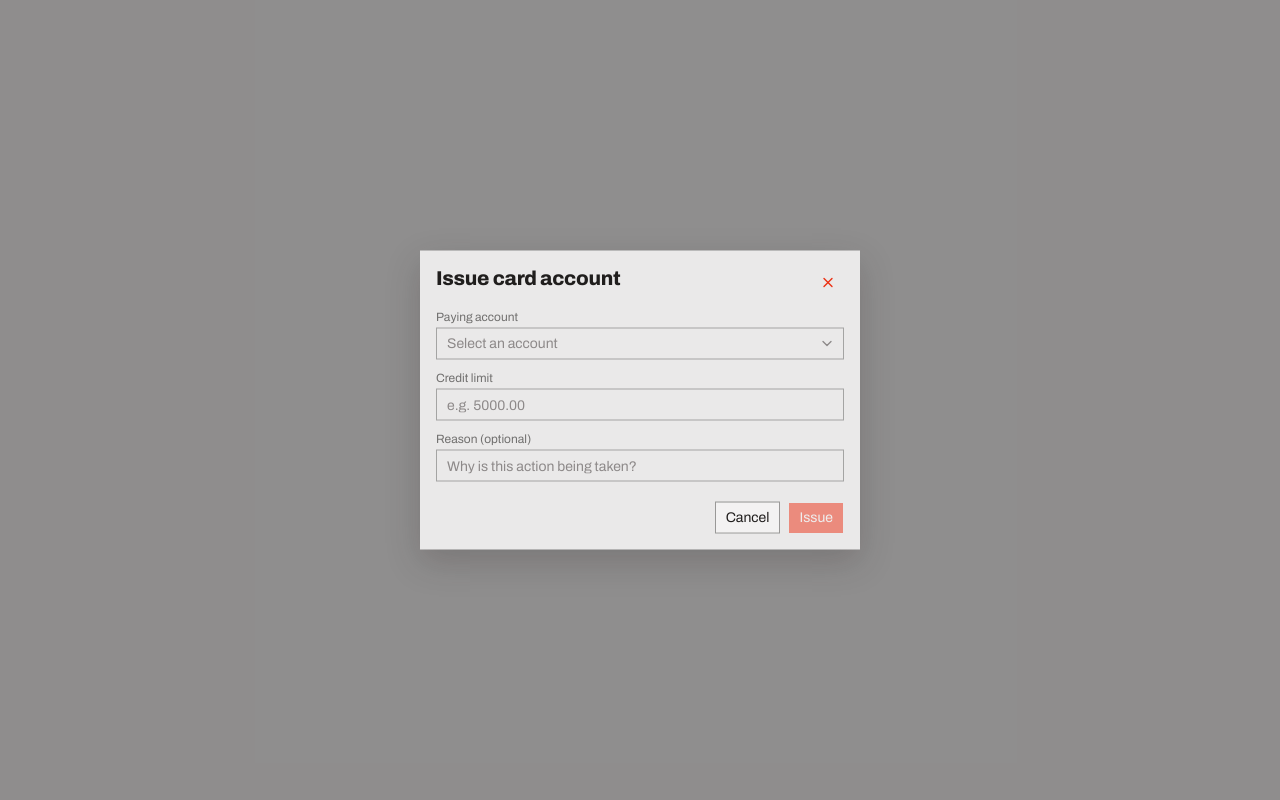
Test case: IssueCardAccountDialog › surfaces a 401 invalid-admin-identity failure inline
expect the text "Select an account" is shown: met, box [447,334,558,354]
Click the dropdown named "paying account".
click(502, 343)  # box [436,328,844,360]
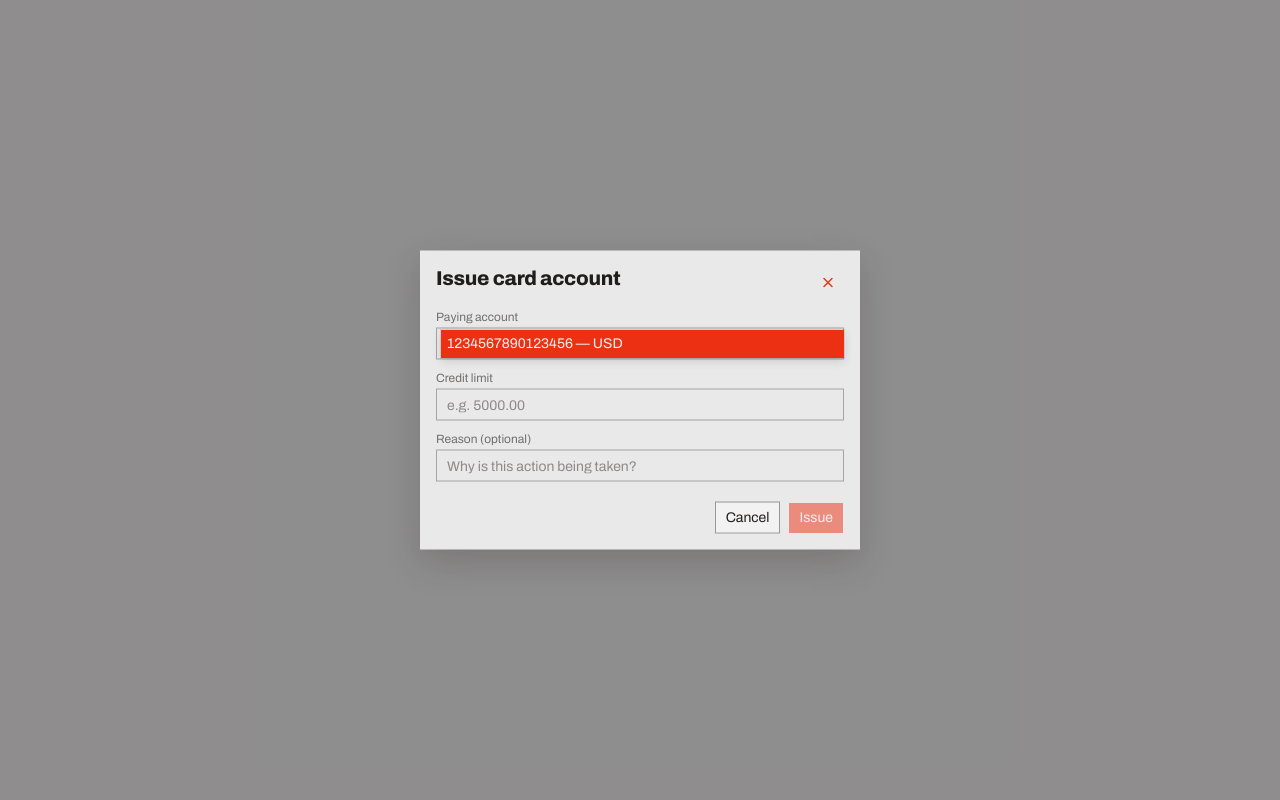
Click the option "1234567890123456 — USD".
click(535, 343)  # box [441,330,844,358]
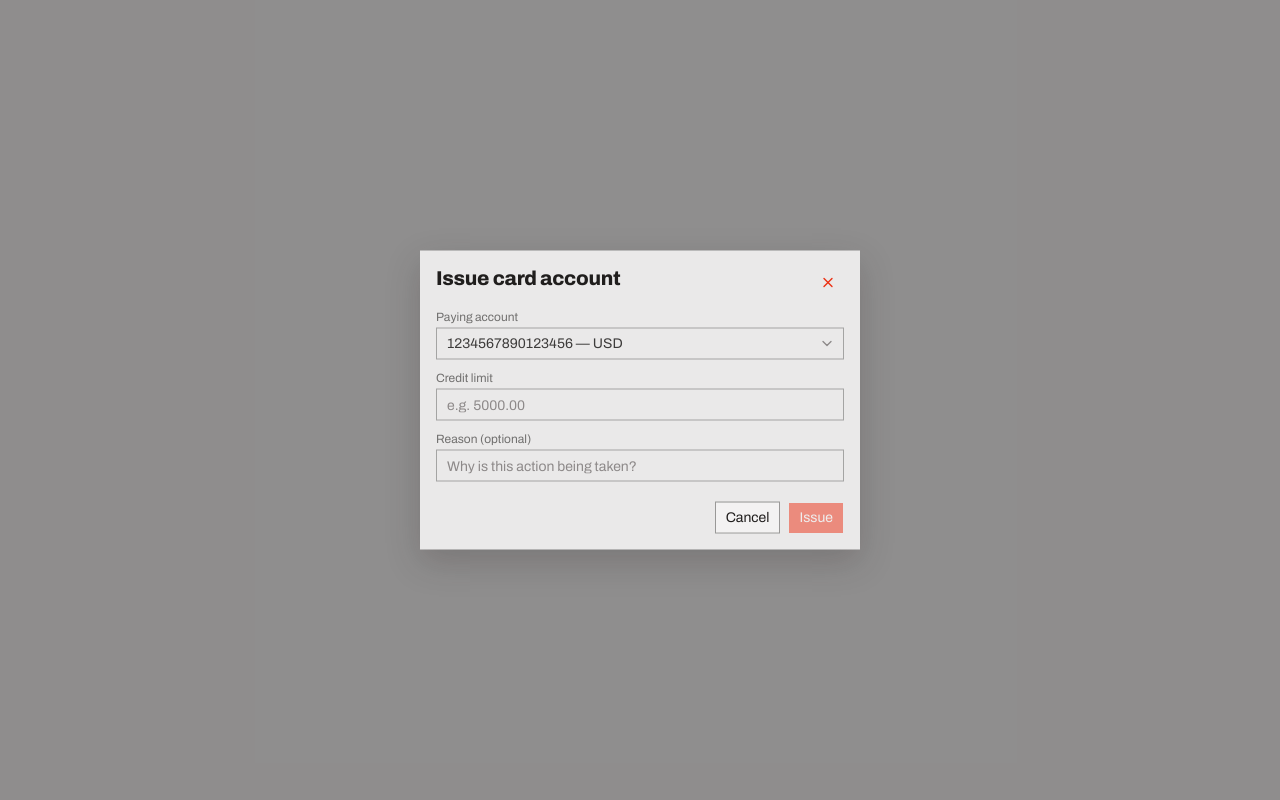
Type "1000.00" into the field labelled "Credit limit".
click(640, 404); type("1000.00")  # box [436,388,844,420]
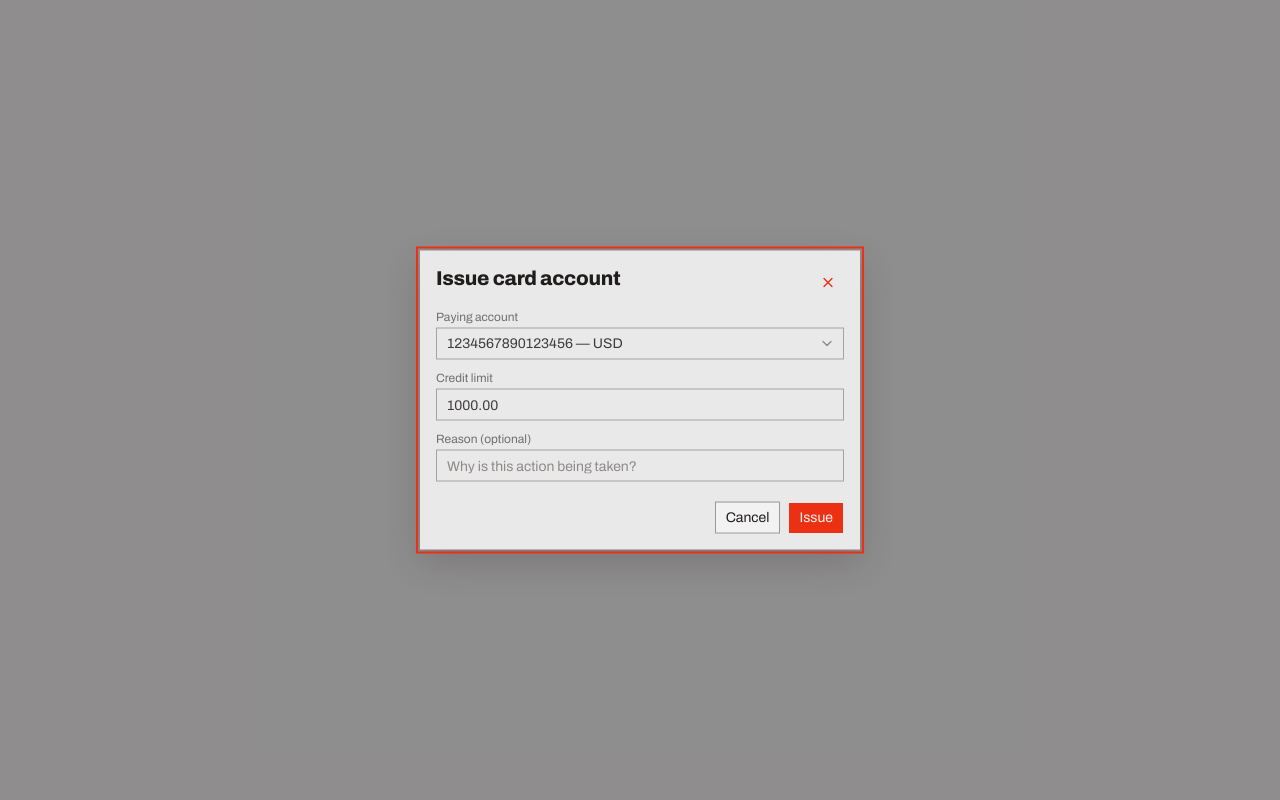
Click the button "Issue".
click(816, 518)  # box [788,502,844,534]
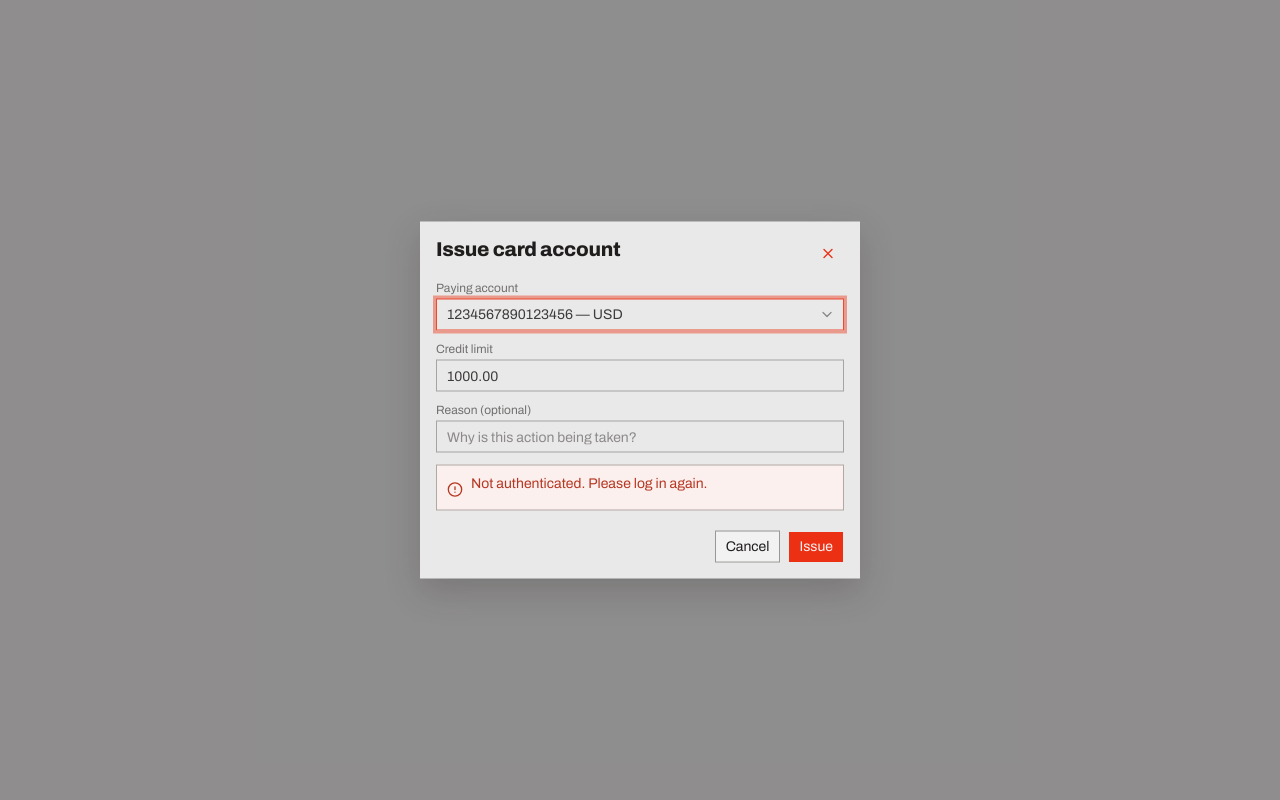
expect the text "Not authenticated. Please log in again." is shown: met, box [471,476,708,490]
